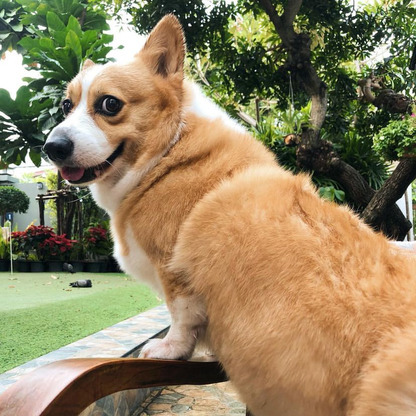Corgi: (48, 21, 378, 385)
